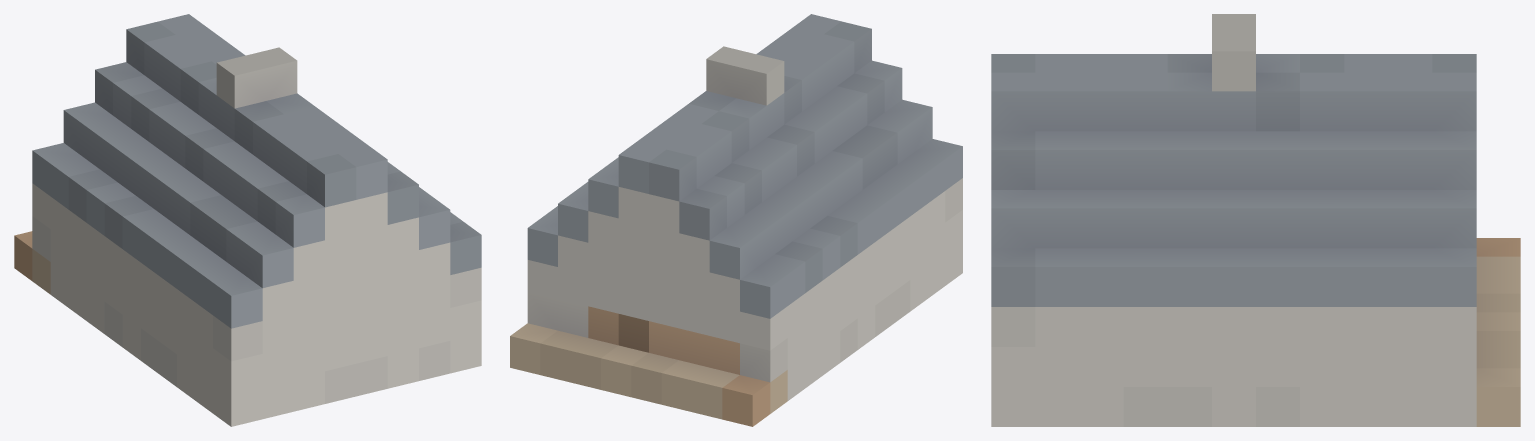
The model's file is gold_smelter.lite.glb.
The picture shows the model from 3 angles, left to right: view 1: azimuth 30°, elevation 25°; view 2: azimuth 150°, elevation 25°; view 3: azimuth 270°, elevation 25°; orthographic projection. The views are drawn at different scales.
Visible parts, largest first — view 1: gold_smelter; view 2: gold_smelter; view 3: gold_smelter.
Boxes of the visible parts, box(x1,y1,x2,y2) form: gold_smelter: box(14, 14, 481, 426); gold_smelter: box(510, 14, 962, 426); gold_smelter: box(991, 14, 1520, 426).
Bounding box in the file's own units: 4 × 4 × 6.
